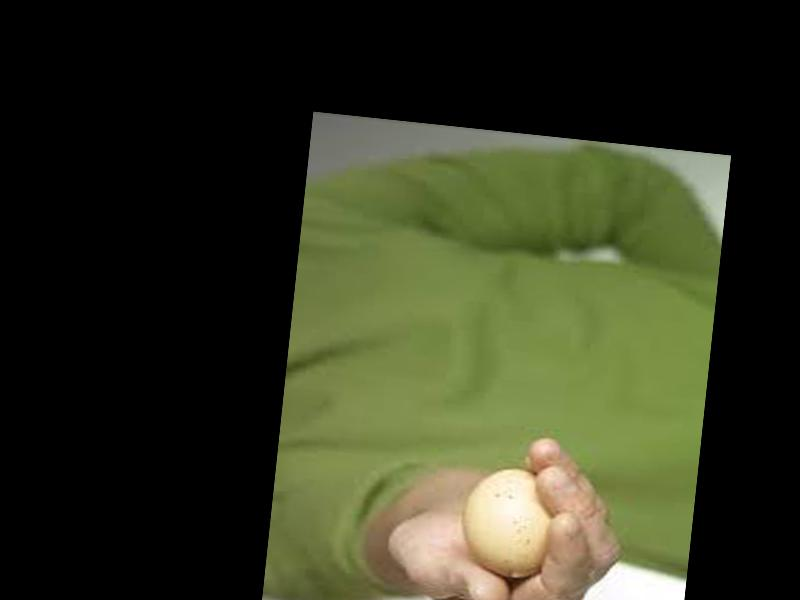Eggs: (459, 463, 557, 580)
